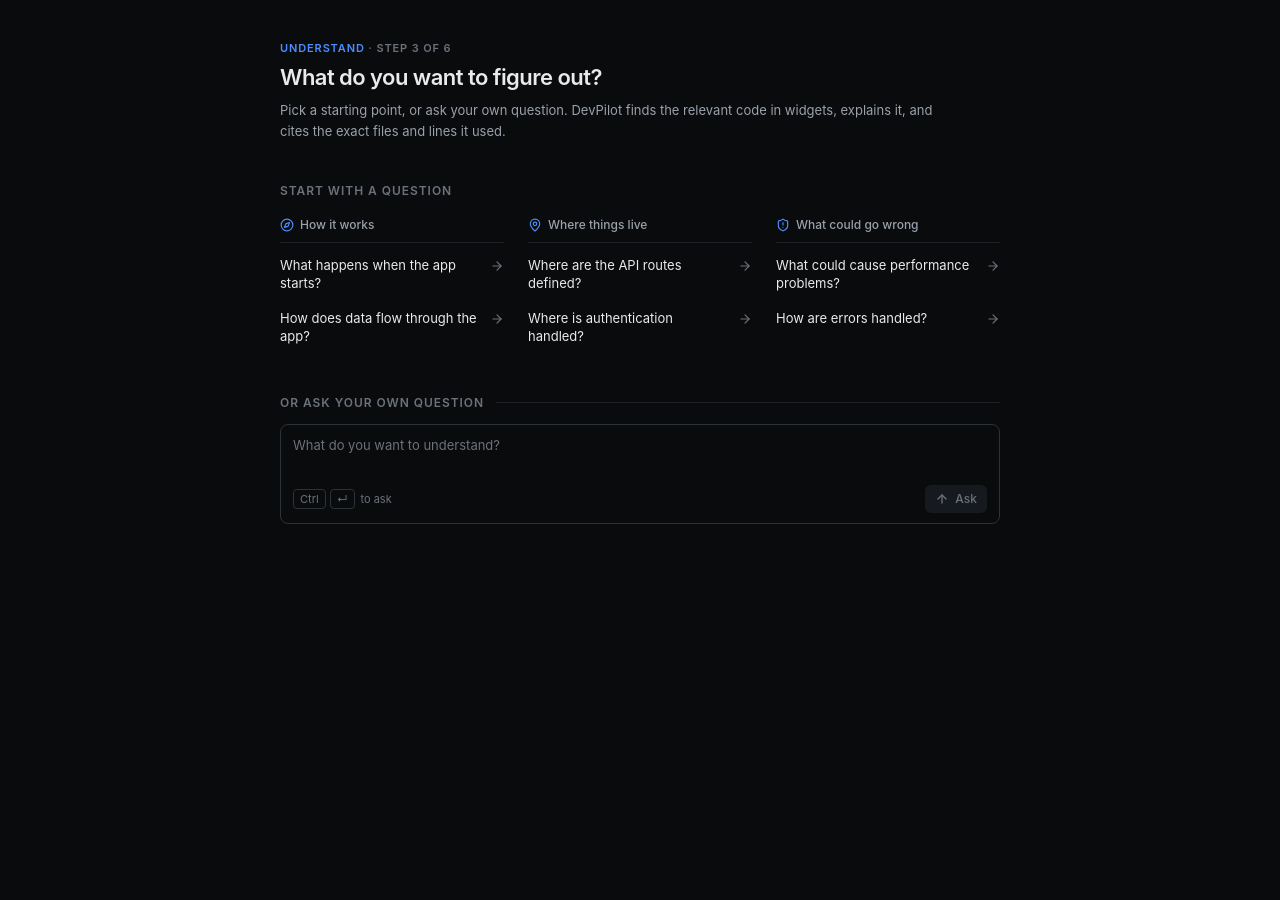
Test case: ConversationPane — the result › structures the result as question, answer, evidence and a next step
Type "Where is useMemo used?" into the text box at {"x": 640, "y": 455}, box [281,425,999,485]
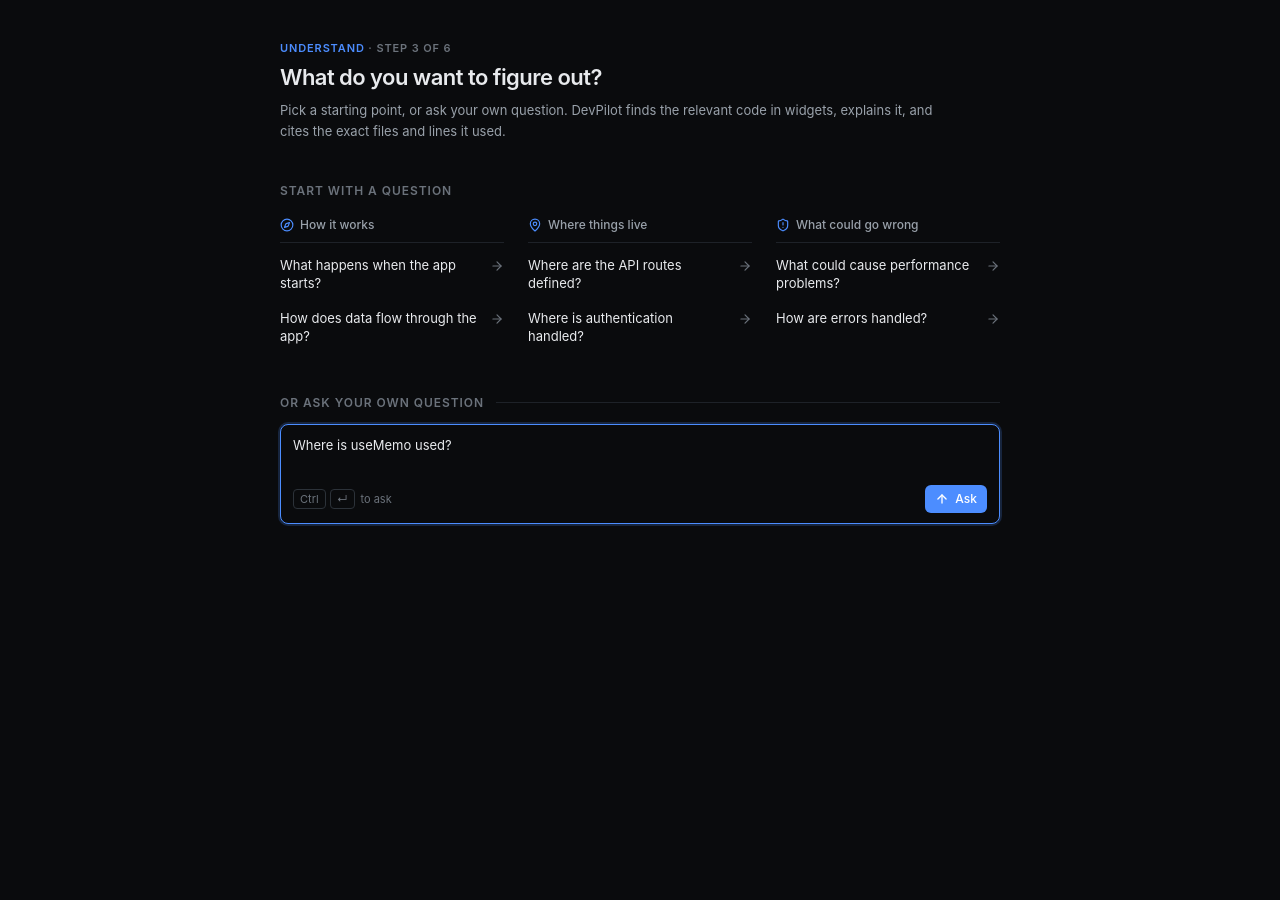
Click the button "Ask" at {"x": 956, "y": 499}, box [925,485,987,513]
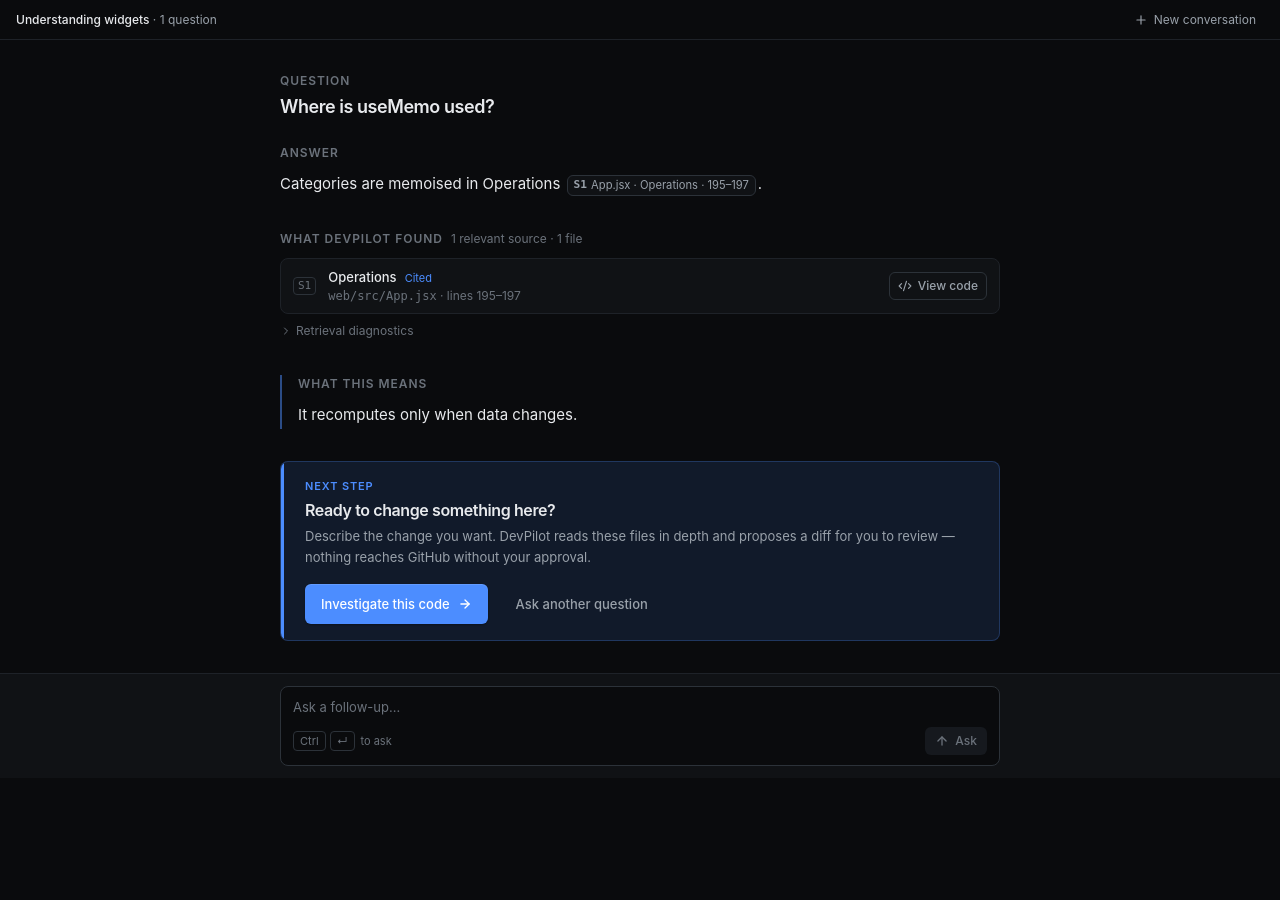
expect the heading "Where is useMemo used?" is shown: met, box [280,96,494,117]
expect the element "Answer" shows "Categories are memoised": met, box [280,174,565,193]
expect the text "1 relevant source · 1 file" is shown: met, box [451,230,582,248]
